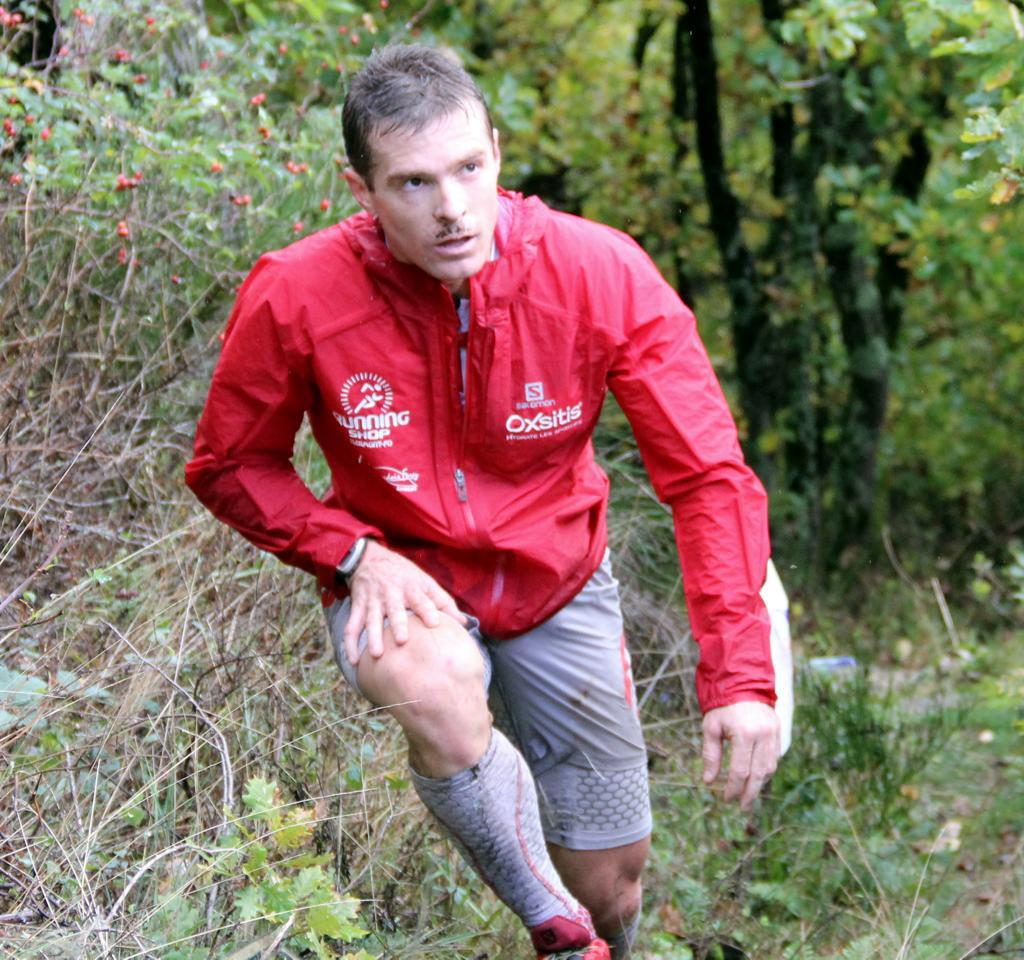face: (369, 115, 495, 279)
